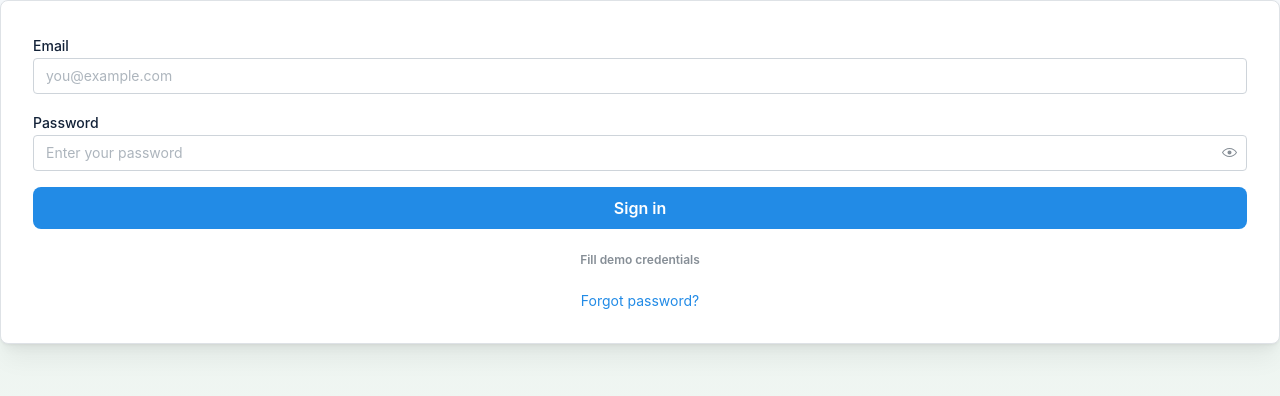
LoginForm › pre-fills demo credentials when clicking demo button
Step 1. Click the button "Fill demo credentials" → point(640, 260), box [33,245,1247,275]
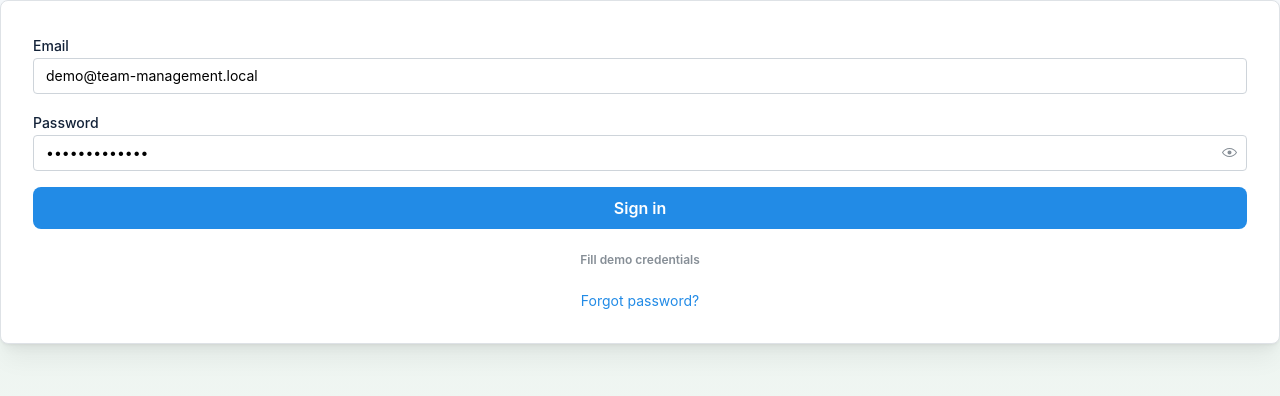
expect the field labelled "Email" holds "demo@team-management.local": met, box [33,58,1247,94]
expect the password field labelled "Password" holds "demo-password": met, box [34,136,1246,170]
